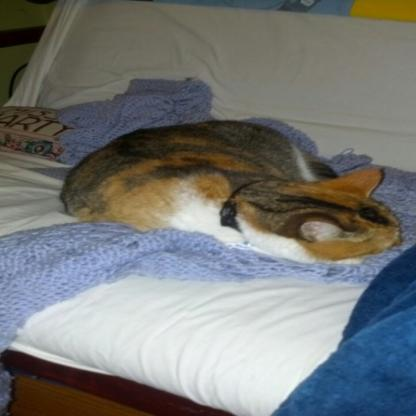Target: (62, 107, 410, 268)
